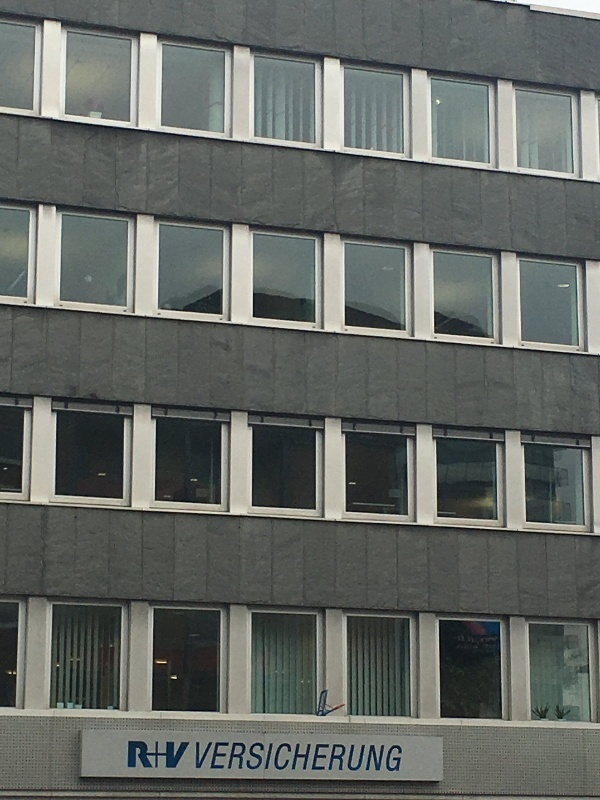text: (209, 742, 224, 775), (225, 742, 240, 775), (241, 742, 256, 775), (257, 742, 272, 775), (273, 742, 288, 775), (289, 742, 304, 775), (305, 742, 320, 775), (321, 742, 336, 775), (337, 742, 352, 775), (353, 742, 368, 775), (369, 742, 384, 775), (385, 742, 400, 775), (129, 741, 144, 770), (145, 741, 160, 770), (161, 741, 176, 770), (177, 741, 191, 770), (196, 742, 208, 775), (401, 742, 403, 775)
